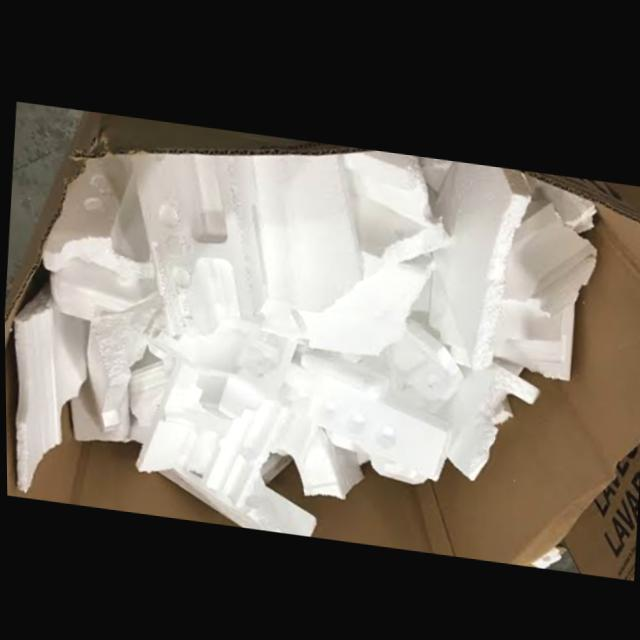paper: (4, 110, 371, 525), (262, 163, 640, 560), (558, 431, 640, 573)
styrofoam: (134, 149, 264, 335), (134, 357, 288, 507), (489, 162, 596, 372), (284, 359, 445, 494), (427, 155, 530, 363), (252, 149, 363, 308), (12, 273, 89, 493), (296, 247, 432, 350), (298, 312, 457, 399), (344, 146, 450, 275), (40, 152, 149, 275), (177, 315, 295, 417), (441, 351, 538, 474), (85, 291, 161, 432), (156, 469, 314, 533), (49, 259, 156, 320)
